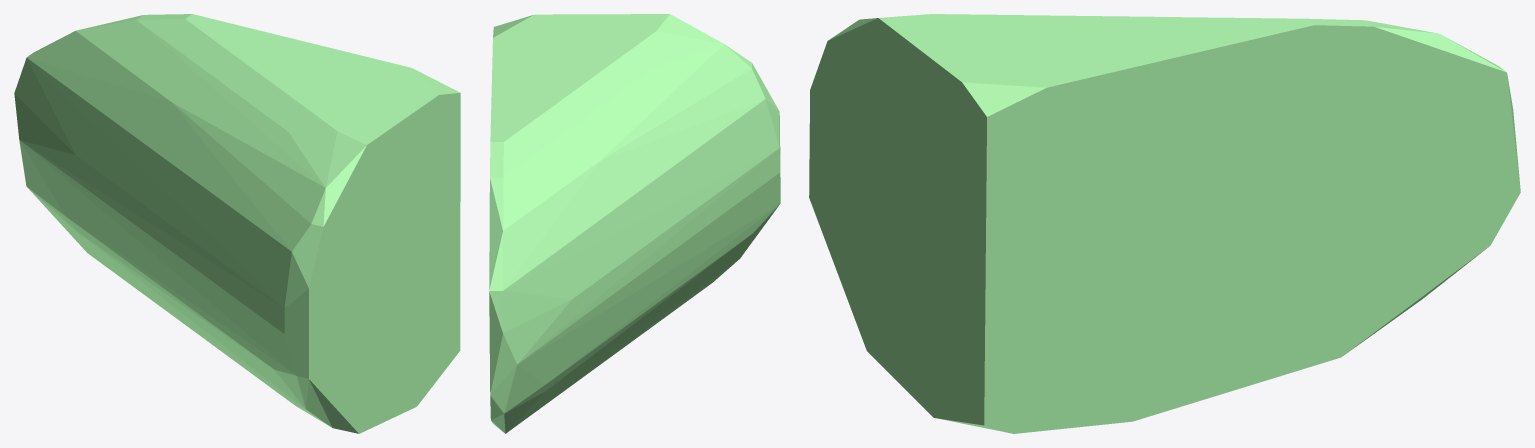
File: dvkr_robot_L_link3_respondable_coll_2.dae
3 renders of one model, left to right at view 1: azimuth 30°, elevation 25°; view 2: azimuth 150°, elevation 25°; view 3: azimuth 270°, elevation 25°, orthographic. The views are drawn at different scales.
Visible parts, largest first — view 1: Node_0000023515112AF0; view 2: Node_0000023515112AF0; view 3: Node_0000023515112AF0.
Part boxes in pixels (x1=…): Node_0000023515112AF0: x1=14, y1=14, x2=460, y2=433; Node_0000023515112AF0: x1=489, y1=14, x2=780, y2=433; Node_0000023515112AF0: x1=809, y1=14, x2=1520, y2=433.
Size of the model in its own units: 0.0885 by 0.106 by 0.1905.
